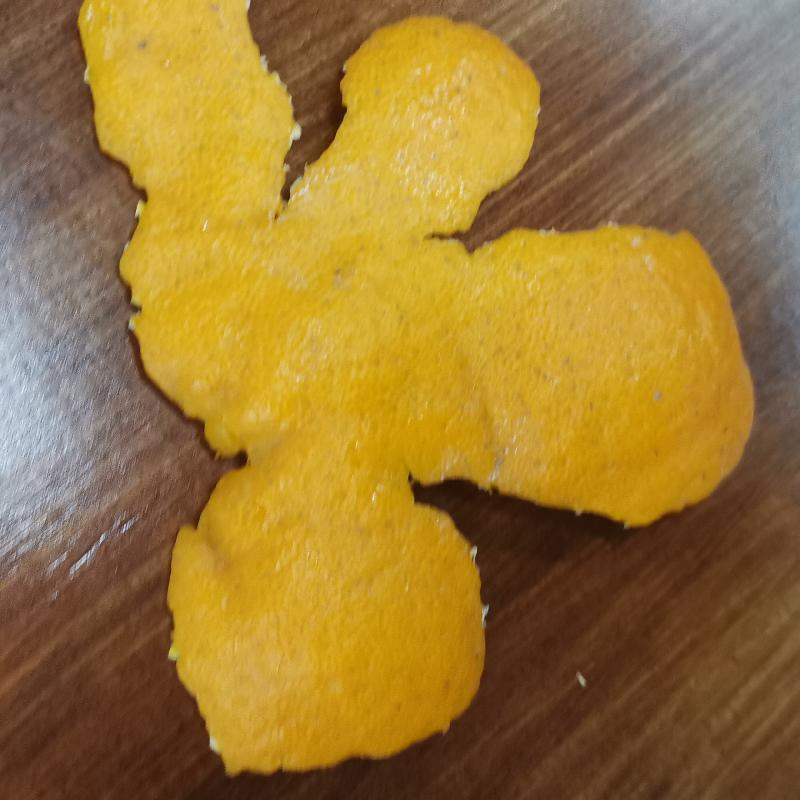orange: (80, 0, 760, 770)
